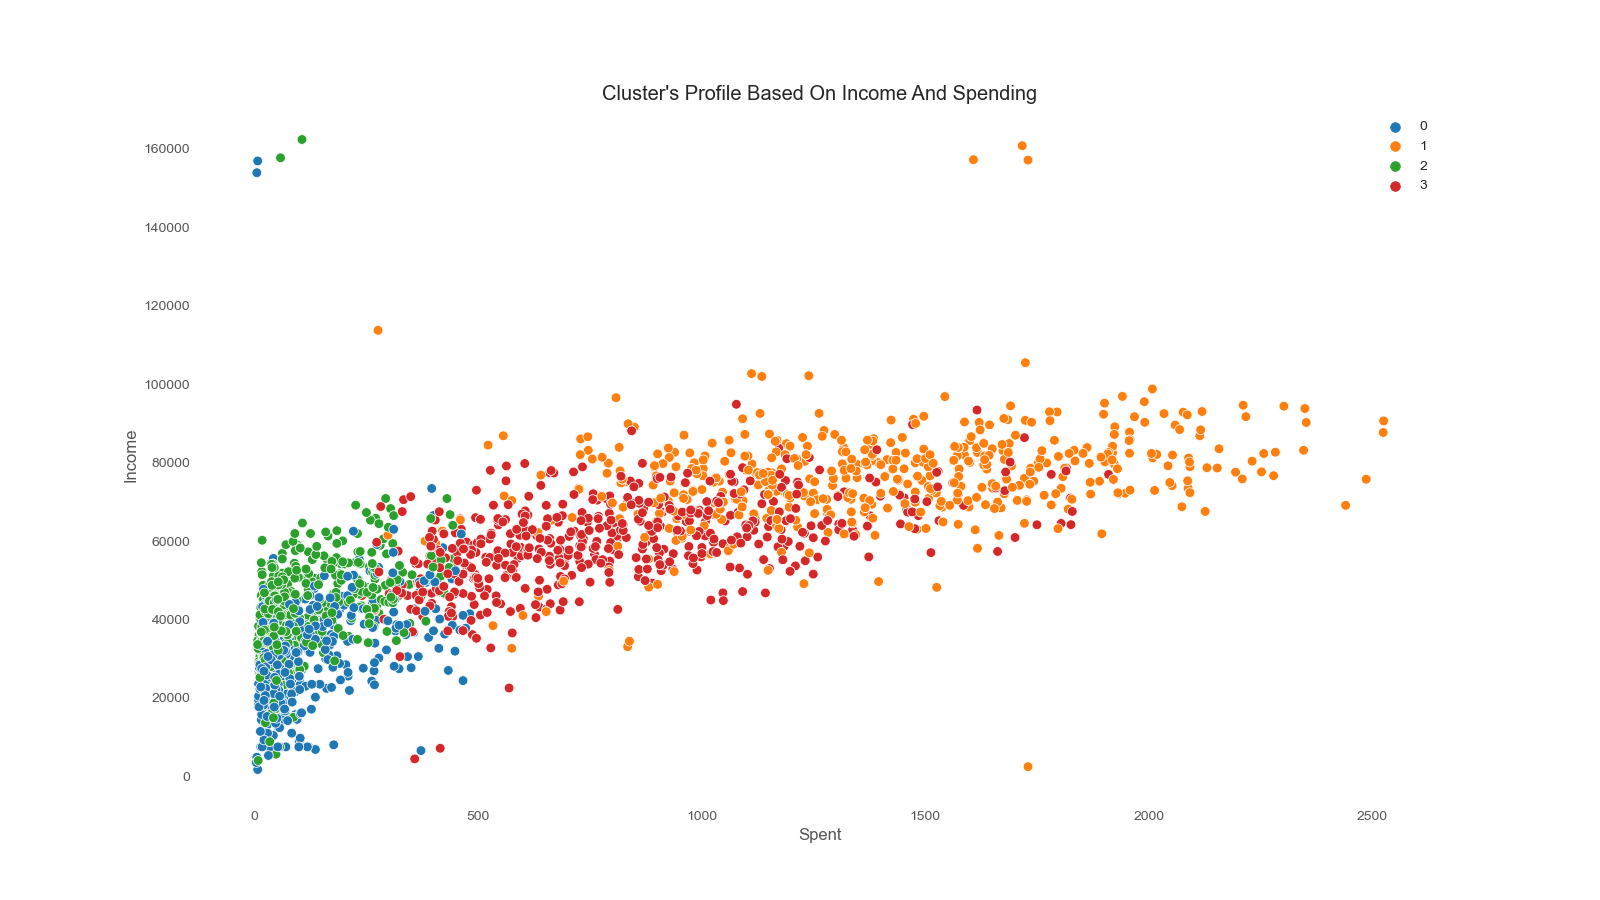

Layout of this report page (visuals, bound fields, positions):
{"tool":"powerbi","page":{"name":"Page 1","canvas":[1280,720],"ordinal":2},"visuals":[{"type":"pythonVisual","fields":{"Values":["Global YouTube Statistics.channel_type","Sum(Global YouTube Statistics.uploads)","Global YouTube Statistics.Creation Date.Variation.Date Hierarchy.Year"]},"box":[85.3,48.1,1064.7,622],"z":0}]}

Visuals, with their boxes in screenshot pixels (x1, y1, x2, y2), scaled from the page's 1280x720 canvas onto the 1600x900 screenshot:
pythonVisual - Global YouTube Statistics.channel_type x Sum(Global YouTube Statistics.uploads): bbox(107, 60, 1438, 838)
